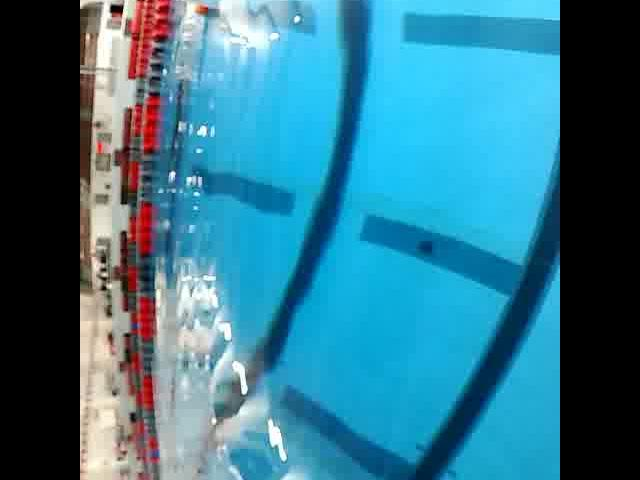Bottle: (167, 0, 220, 85)
